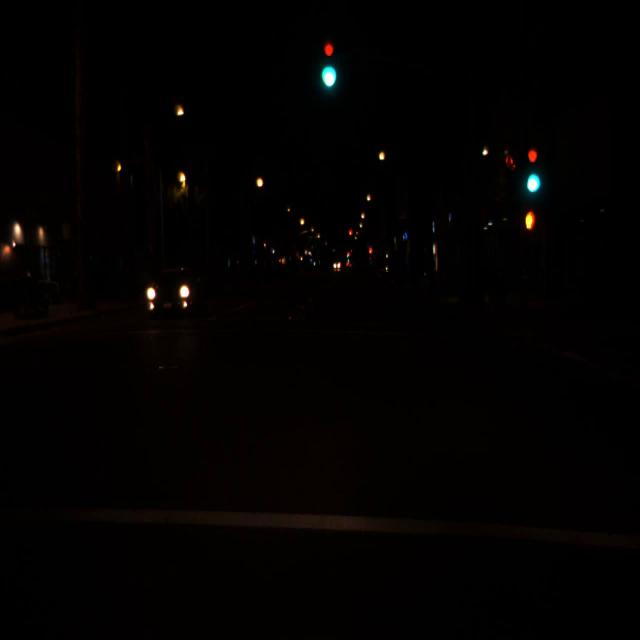stop: (348, 229, 352, 240), (368, 248, 372, 259)
stop traffic light: (348, 229, 352, 240), (368, 248, 372, 259)
